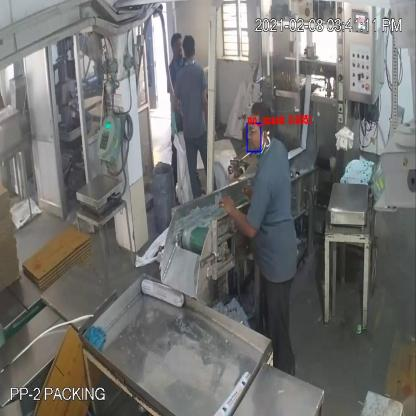no_glove: (211, 186, 261, 242)
